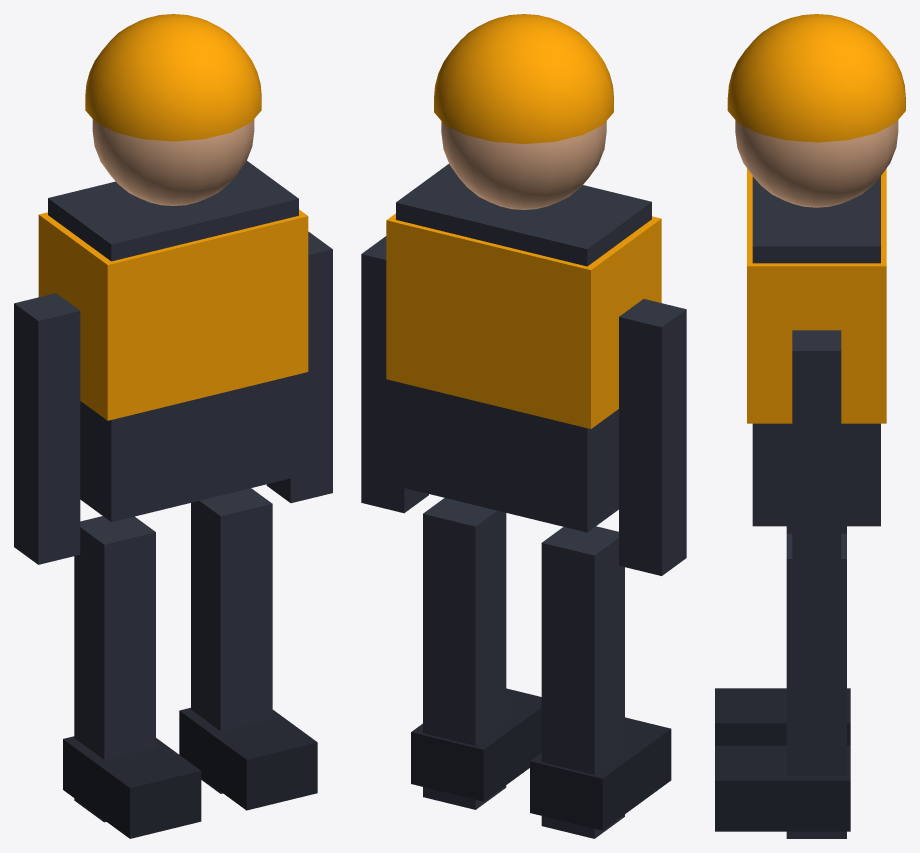
The model's file is worker.glb.
3 views of the same model, side by side, from view 1: azimuth 30°, elevation 25°; view 2: azimuth 150°, elevation 25°; view 3: azimuth 270°, elevation 25° (orthographic). The views are drawn at different scales.
Visible parts, largest first — view 1: worker, leftLeg, rightLeg, leftArm, rightArm; view 2: worker, leftLeg, rightLeg, leftArm, rightArm; view 3: worker, rightArm, rightLeg.
Part boxes in pixels (x1,y1,x2,y2): worker: (38,14,317,838); leftLeg: (74,516,155,822); rightLeg: (191,488,272,793); leftArm: (14,293,80,564); rightArm: (266,231,332,503); worker: (386,14,671,830); leftLeg: (541,526,624,838); rightLeg: (423,498,506,809); leftArm: (619,299,686,575); rightArm: (361,236,428,513); worker: (715,14,905,831); rightArm: (792,330,841,596); rightLeg: (786,533,846,838).
Bounding box in the file's own units: 0.91 × 2.27 × 0.5064.
